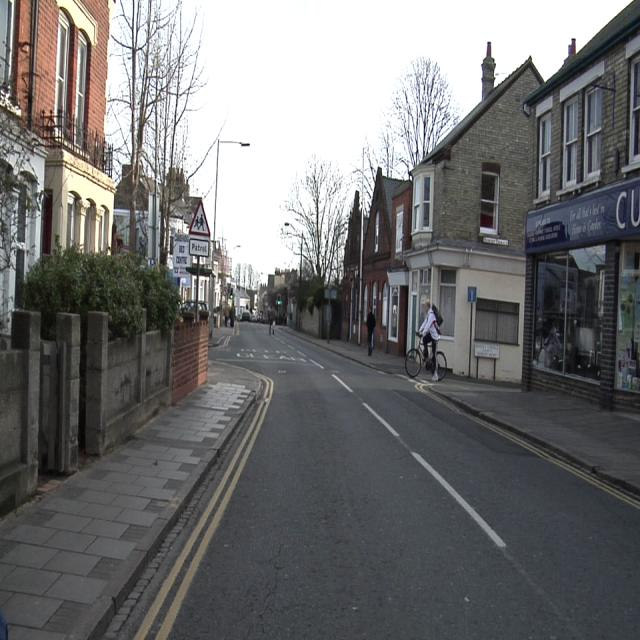Bicyclist: (406, 300, 445, 377)
Building: (348, 10, 639, 408), (0, 0, 115, 331)
Car: (241, 310, 251, 319)
Road: (171, 322, 635, 639)
Tree: (107, 1, 205, 263), (355, 57, 462, 208), (26, 251, 179, 336), (281, 155, 349, 284)
person: (366, 308, 375, 355)
